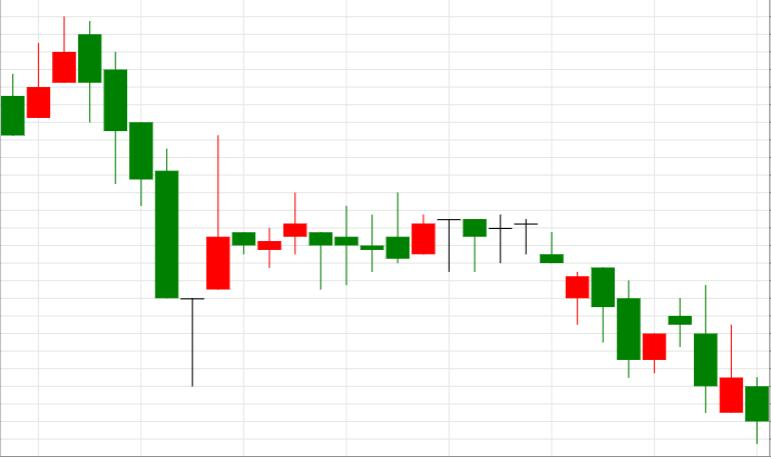morning_star_rise: (79, 21, 230, 387)
